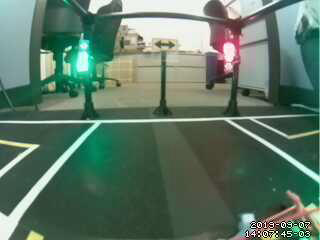Left_Right_sign: (150, 34, 180, 55)
Traffic_light_green: (75, 40, 91, 75)
Traffic_light_red: (219, 39, 240, 74)
